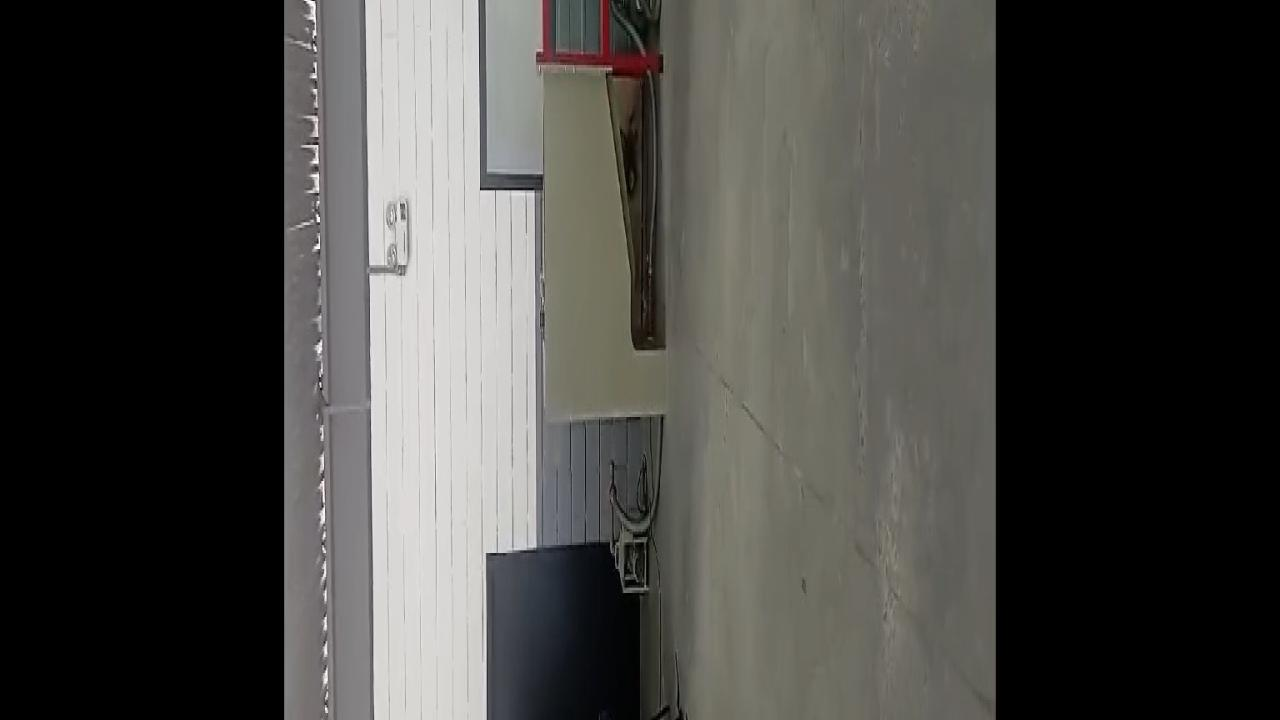Cube: (539, 310, 545, 330)
